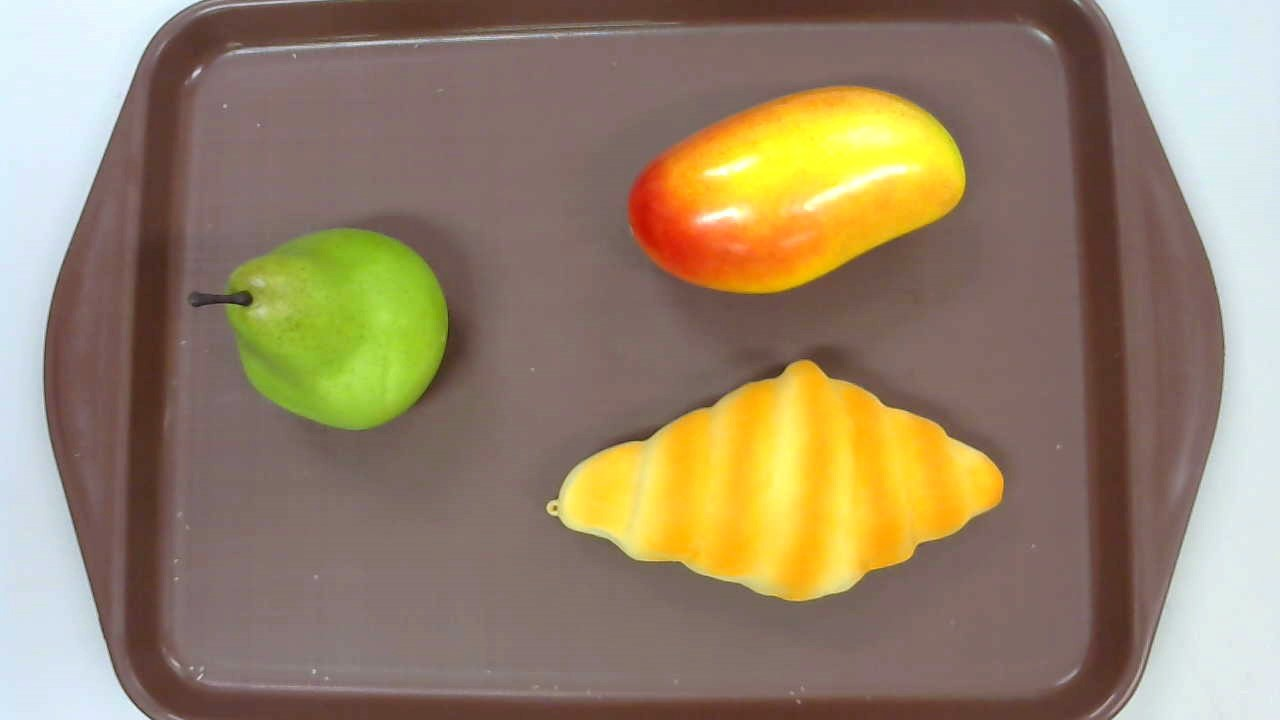croissant: (545, 360, 1004, 600)
green pear: (185, 228, 447, 430)
red mango: (626, 86, 965, 297)
